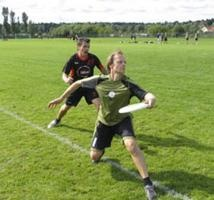person without safety: (98, 49, 147, 165), (61, 34, 101, 108)
